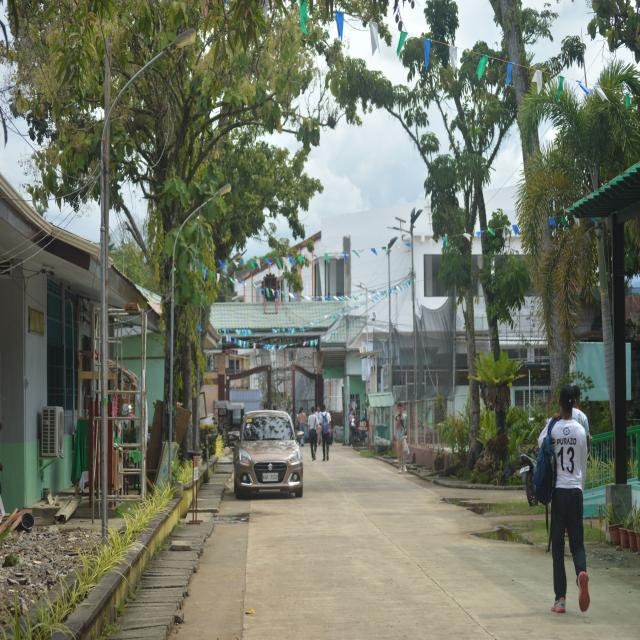person: (551, 385, 589, 612), (395, 404, 407, 472), (320, 405, 332, 460), (308, 407, 319, 460), (297, 407, 306, 446)
